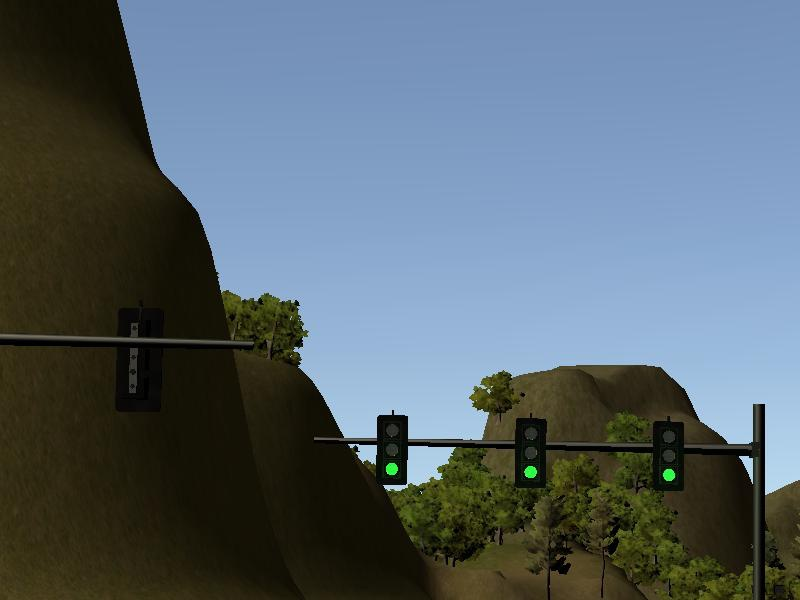Green: (377, 414, 408, 485), (514, 419, 545, 487), (653, 421, 683, 491)
